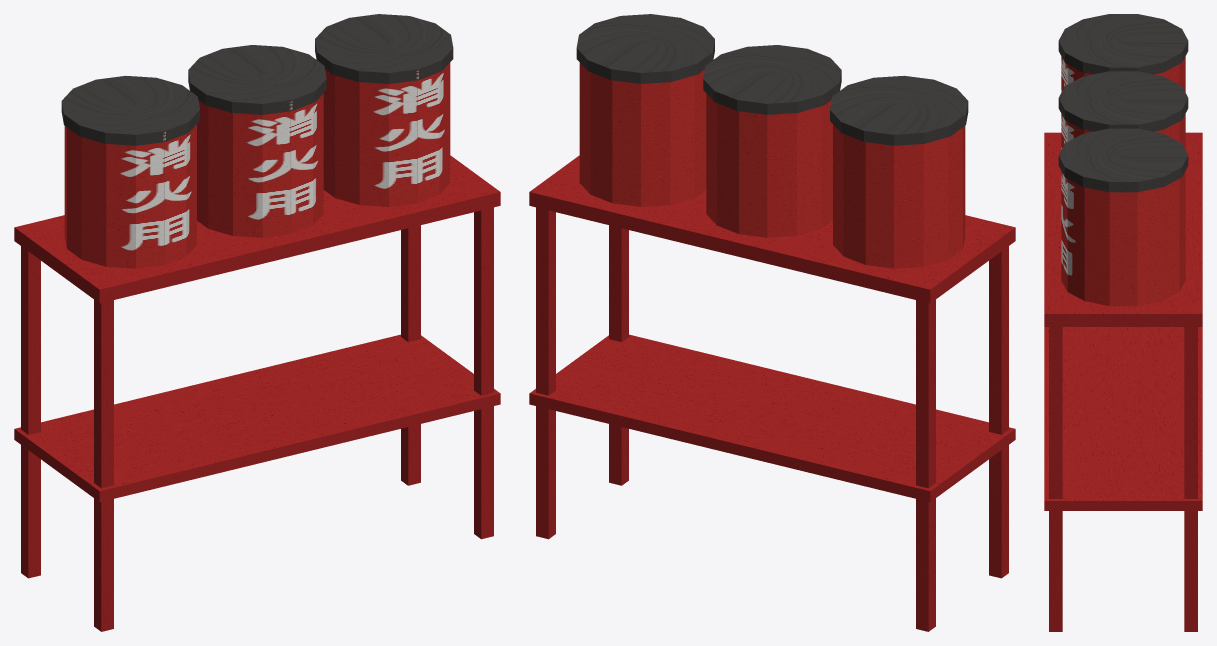
File: firebuckets.glb
3 renders of one model, left to right at view 1: azimuth 30°, elevation 25°; view 2: azimuth 150°, elevation 25°; view 3: azimuth 270°, elevation 25°, orthographic. The views are drawn at different scales.
Visible parts, largest first — view 1: firebuckets; view 2: firebuckets; view 3: firebuckets.
Part boxes in pixels (bbox=[...]): firebuckets: bbox=[14, 14, 500, 631]; firebuckets: bbox=[529, 14, 1015, 631]; firebuckets: bbox=[1044, 14, 1202, 631].
Bounding box in the file's own units: 0.76 × 0.87 × 0.28.
Materials: 1 (1 with a texture image).
